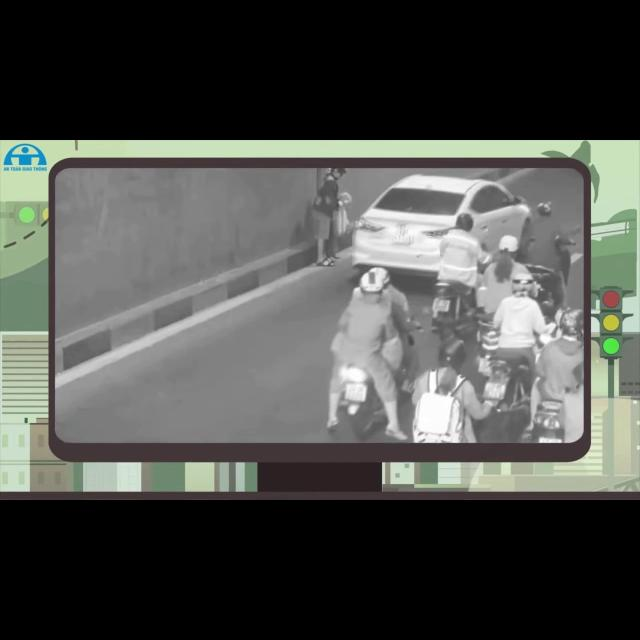car: (352, 175, 532, 276)
motorcycle: (478, 321, 534, 411), (339, 365, 387, 441), (482, 358, 531, 412), (431, 281, 476, 339), (525, 264, 563, 323), (532, 400, 563, 442), (477, 319, 499, 376)
